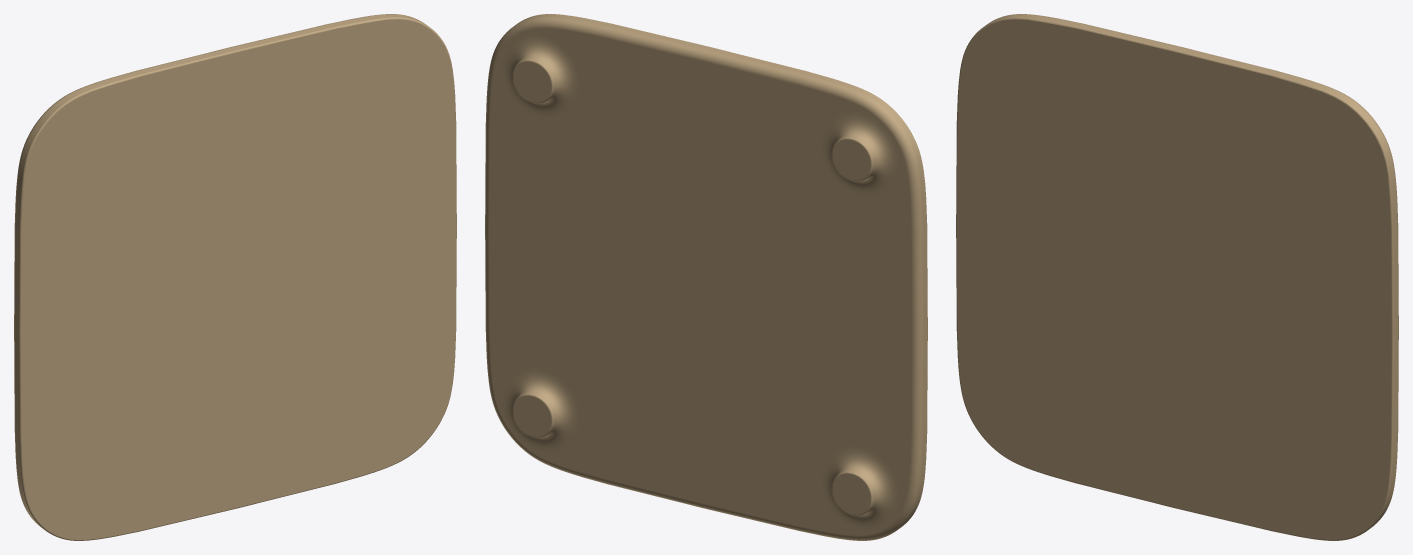
3 views of the same model, side by side, from view 1: azimuth 30°, elevation 25°; view 2: azimuth 150°, elevation 25°; view 3: azimuth 330°, elevation 25° (orthographic).
Visible parts, largest first — view 1: brep_1; view 2: brep_1; view 3: brep_1.
Part boxes in pixels (box(x1,y1,x2,y2)): brep_1: box(14, 14, 456, 540); brep_1: box(485, 14, 927, 540); brep_1: box(956, 14, 1398, 540).
Size of the model in its own units: 0.85 by 0.85 by 0.0593.
